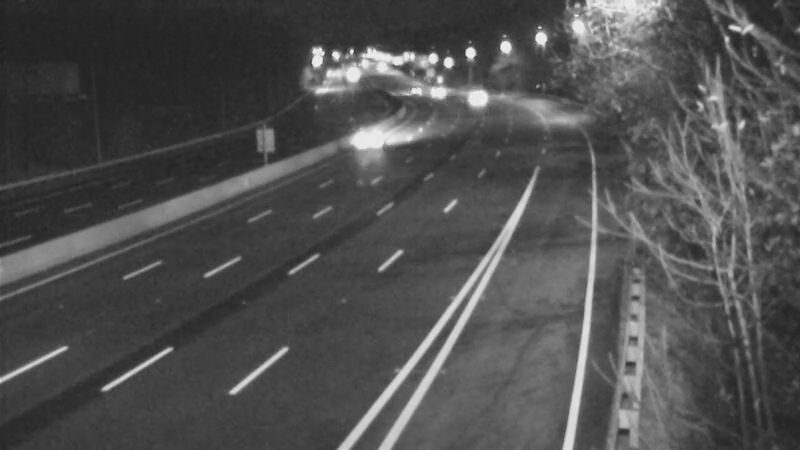vehicle: (390, 65, 440, 115), (413, 68, 463, 118), (448, 75, 498, 125), (336, 115, 386, 165)
